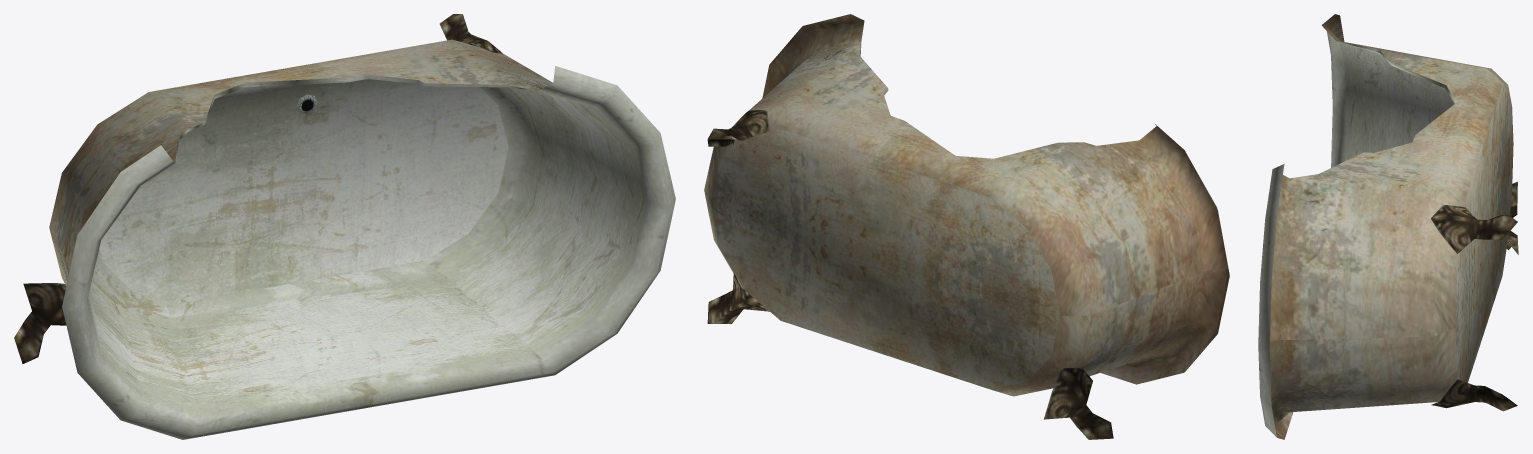
The model's file is furniture_bathtub_d.glb.
3 renders of one model, left to right at view 1: azimuth 30°, elevation 25°; view 2: azimuth 150°, elevation 25°; view 3: azimuth 270°, elevation 25°, orthographic. The views are drawn at different scales.
Size of the model in its own units: 76.4 by 39.61 by 33.84.
Materials: 1 (1 with a texture image).
